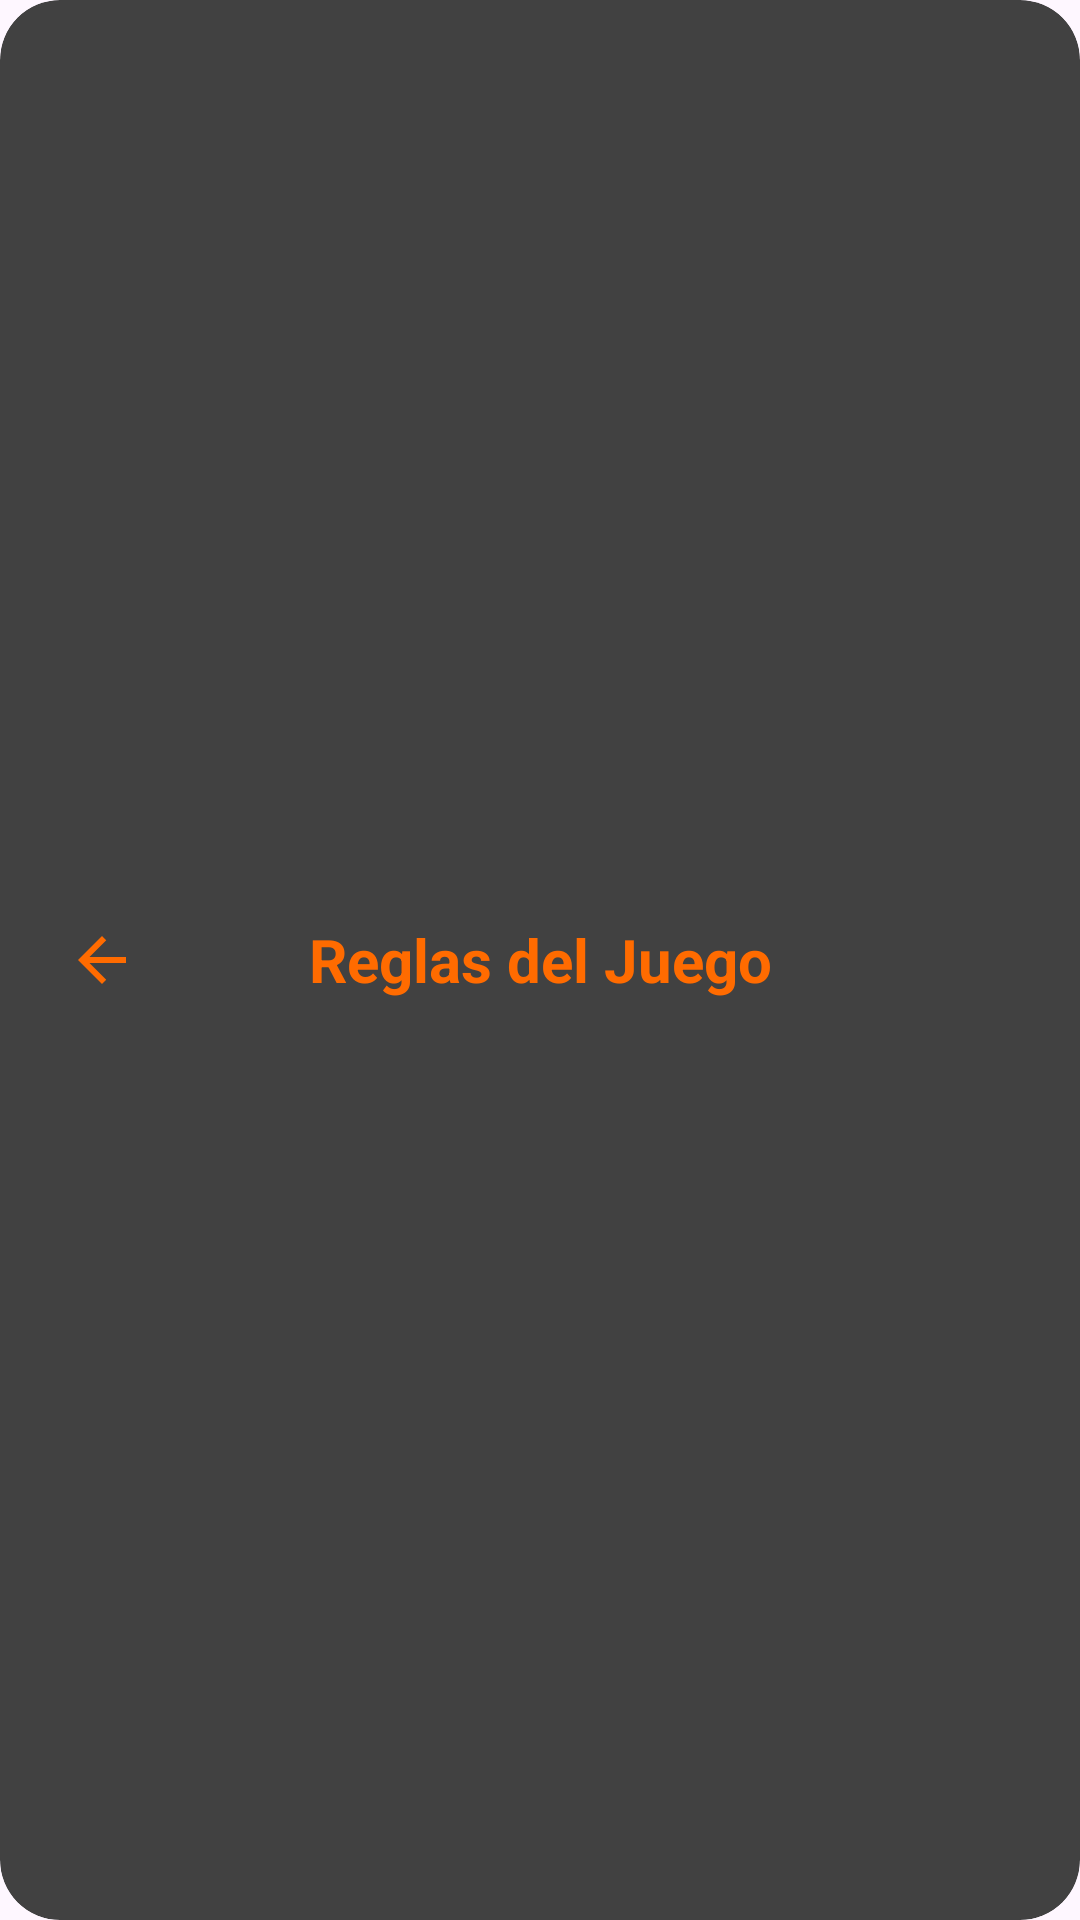

Named icons in this screenshot (1080w x 1920h) and their bounding boxes, (x1, y1, x2, y2):
Volver: (78, 936, 126, 984)
